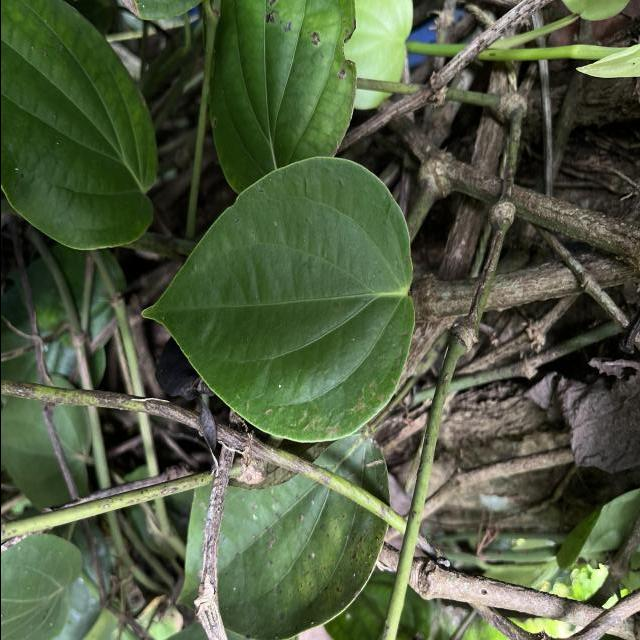Piper nigrum: (137, 154, 418, 444)
